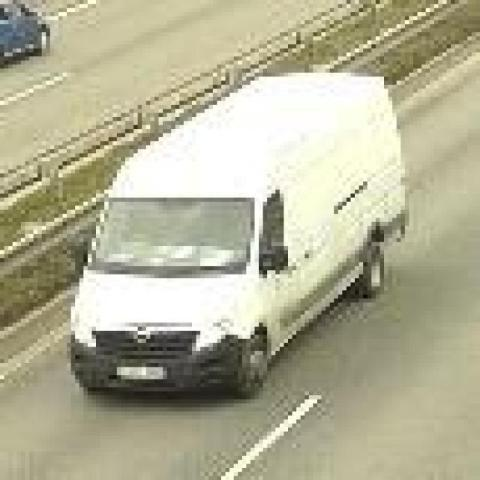van: (73, 73, 403, 396)
